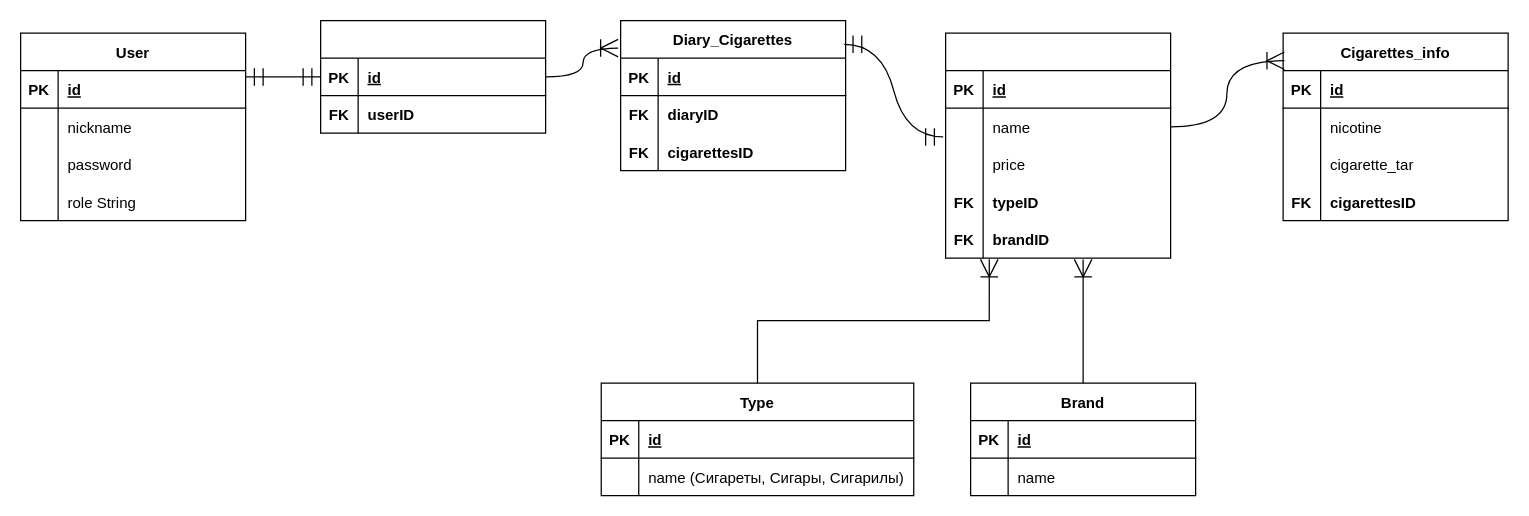
Some shapes in this 1529 by 516 pixel diagram are drawn without their labels. The shapes that lost their labels are listed below. From the top down, each one's box as (x1, y1, x2, y2) in pixels, then its label:
(319, 19, 546, 133): Diary
(944, 32, 1171, 258): Cigarettes
